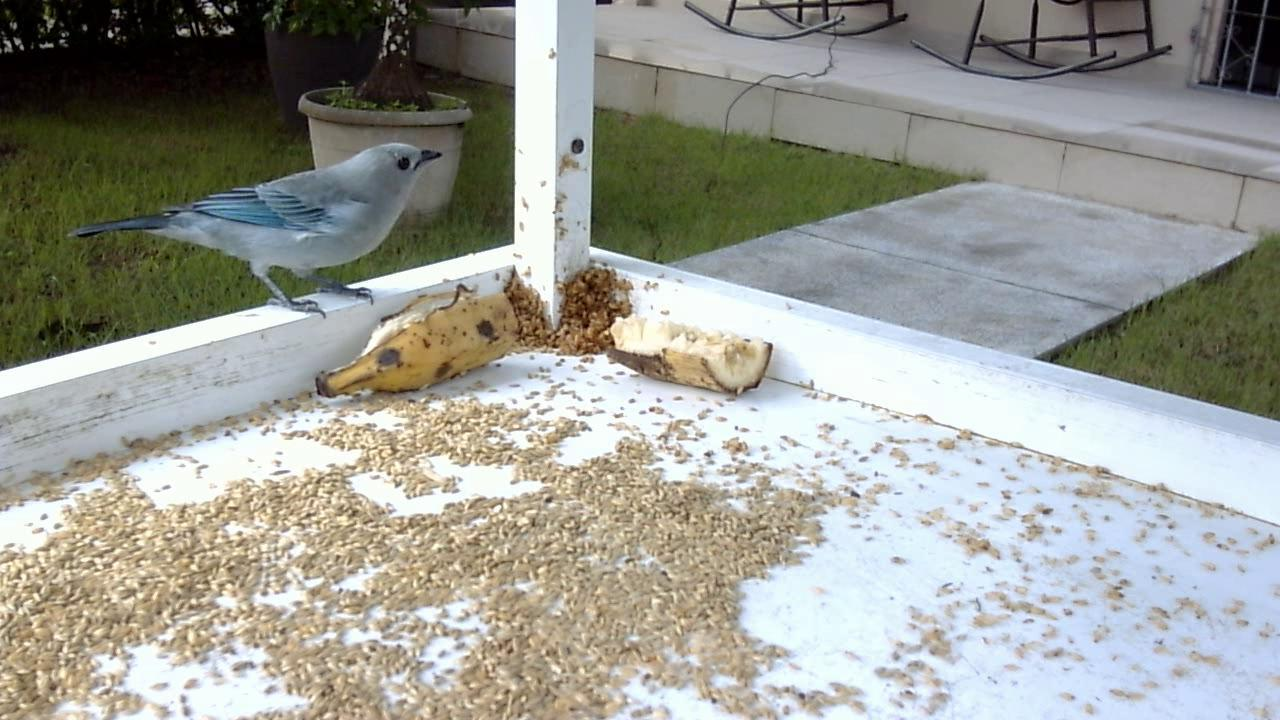sanhaco_da_amazonia: (72, 140, 452, 326)
